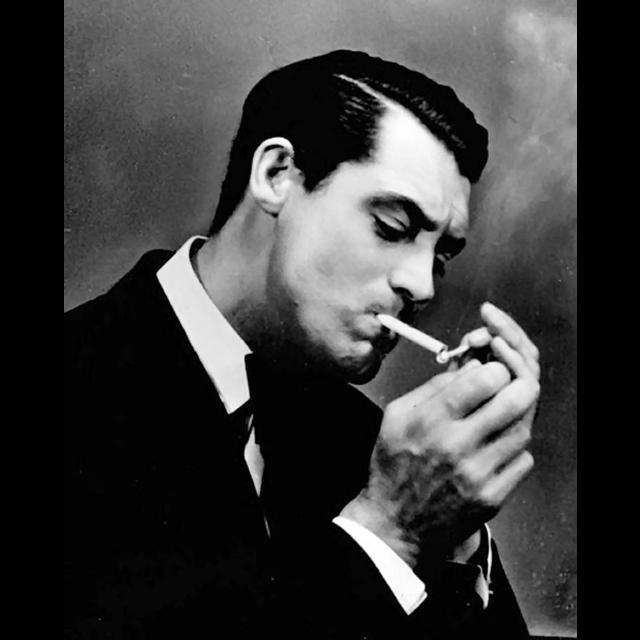rokok: (372, 303, 452, 361)
